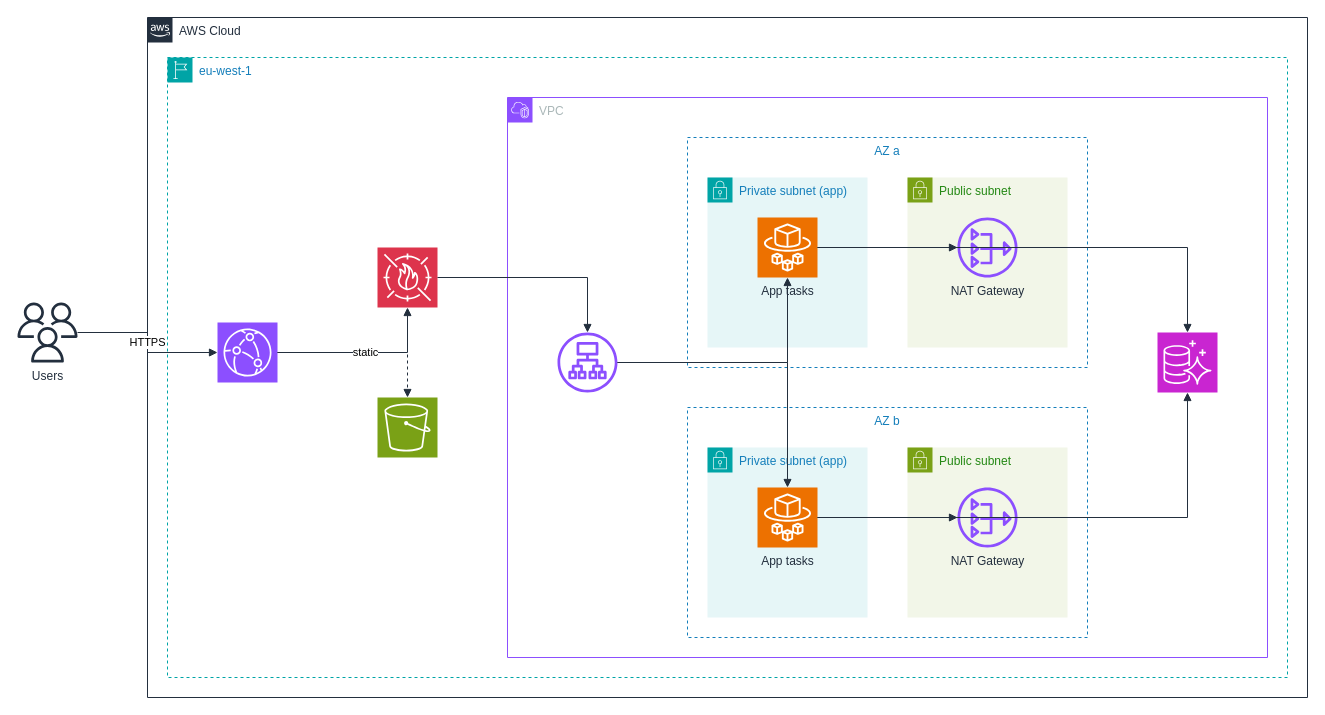
The diagram is 1325 pixels wide and 715 high, and some of its shapes have lost their labels. The shapes that lost their labels are listed below. From the top down, each one's centre as x and y in pixels, then its label:
(x=407, y=277): AWS WAF
(x=247, y=352): Amazon CloudFront
(x=587, y=362): ALB
(x=1187, y=362): Aurora (Multi-AZ)
(x=407, y=427): Static assets
